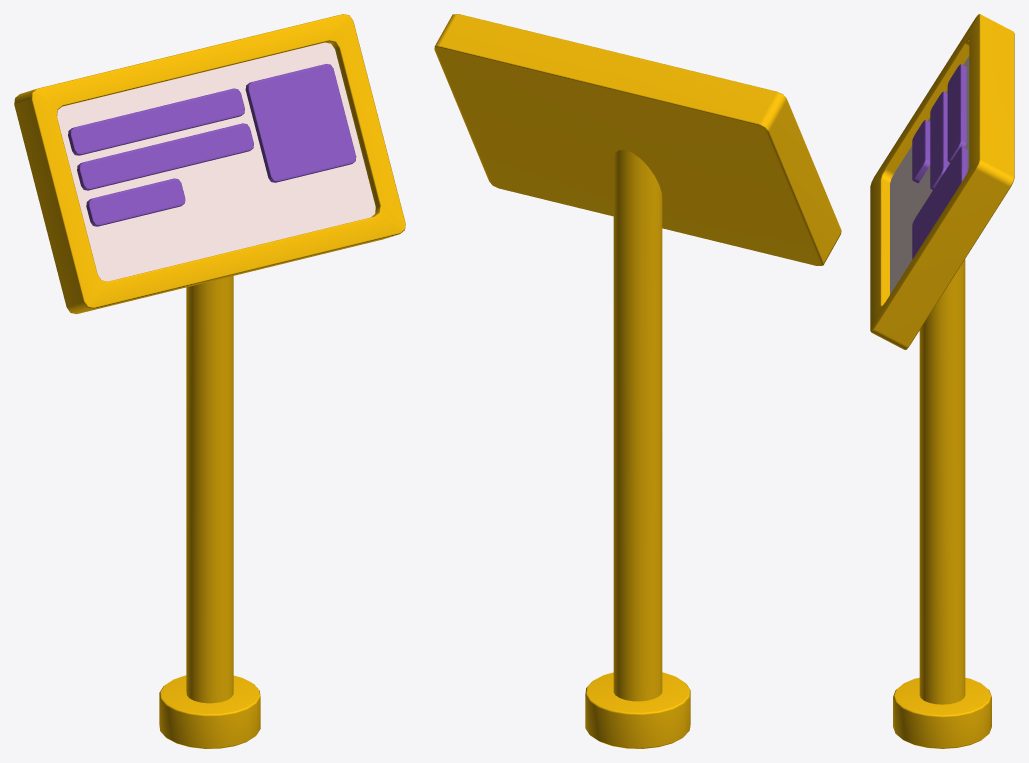
File: Public_9_Museum_Label_1.glb
The picture shows the model from 3 angles, left to right: view 1: azimuth 30°, elevation 25°; view 2: azimuth 150°, elevation 25°; view 3: azimuth 270°, elevation 25°; orthographic projection. The views are drawn at different scales.
Parts seen in each view (by area): view 1: Public_9_Museum_Label_1; view 2: Public_9_Museum_Label_1; view 3: Public_9_Museum_Label_1.
Boxes of the visible parts, x1,y1,x2,y2 form: Public_9_Museum_Label_1: [14, 14, 405, 748]; Public_9_Museum_Label_1: [434, 14, 841, 748]; Public_9_Museum_Label_1: [870, 14, 1014, 748].
Size of the model in its own units: 0.9376 by 1.84 by 0.3747.
1 material, 1 textured.
